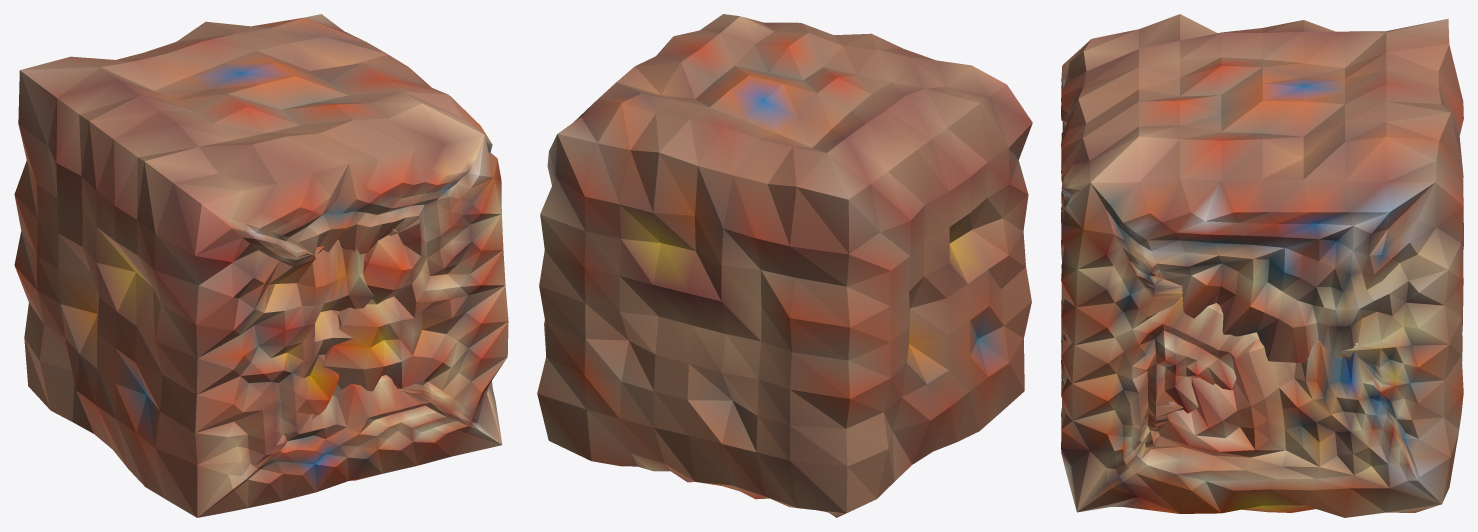
3 views of the same model, side by side, from view 1: azimuth 30°, elevation 25°; view 2: azimuth 150°, elevation 25°; view 3: azimuth 270°, elevation 25° (orthographic). The views are drawn at different scales.
Size of the model in its own units: 1.1 by 1.1 by 1.1.
